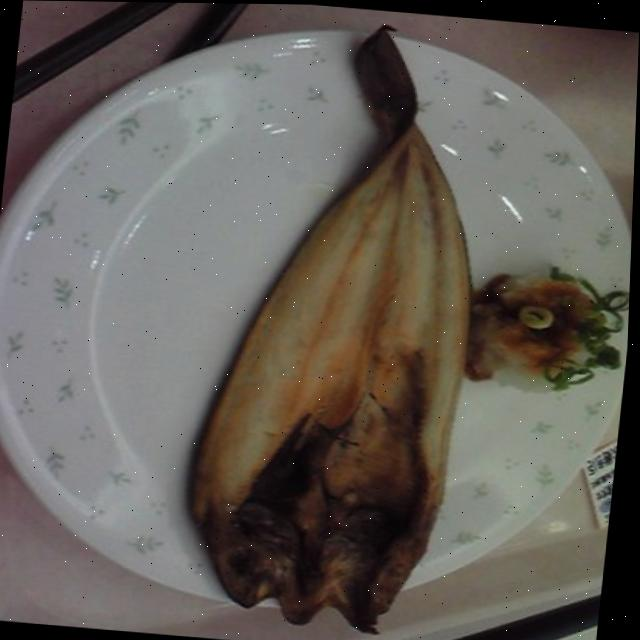熟制海鲜: (0, 19, 639, 640)
